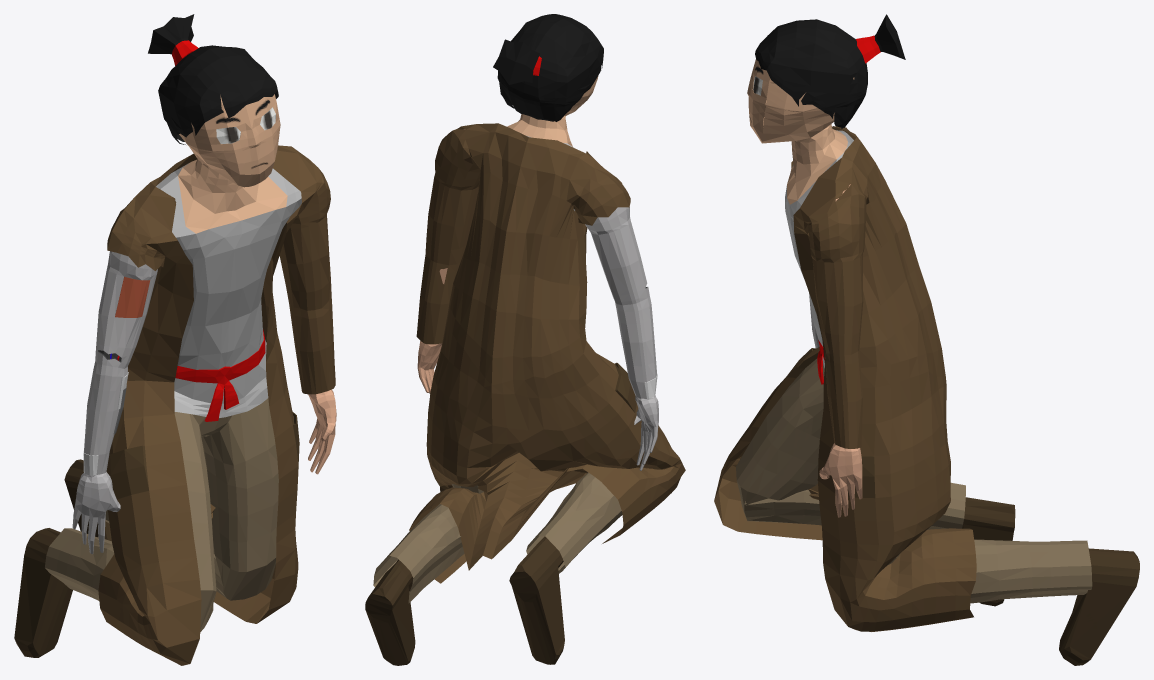
File: One_Die_000013.obj
3 views of the same model, side by side, from view 1: azimuth 30°, elevation 25°; view 2: azimuth 150°, elevation 25°; view 3: azimuth 270°, elevation 25° (orthographic). The views are drawn at different scales.
Visible parts, largest first — view 1: Hair_Cube.004; view 2: Hair_Cube.004; view 3: Hair_Cube.004.
Part boxes in pixels (x1,y1,x2,y2): Hair_Cube.004: (14,14,336,665); Hair_Cube.004: (365,14,685,665); Hair_Cube.004: (714,14,1139,665).
Size of the model in its own units: 1.3 by 3.03 by 1.86.
